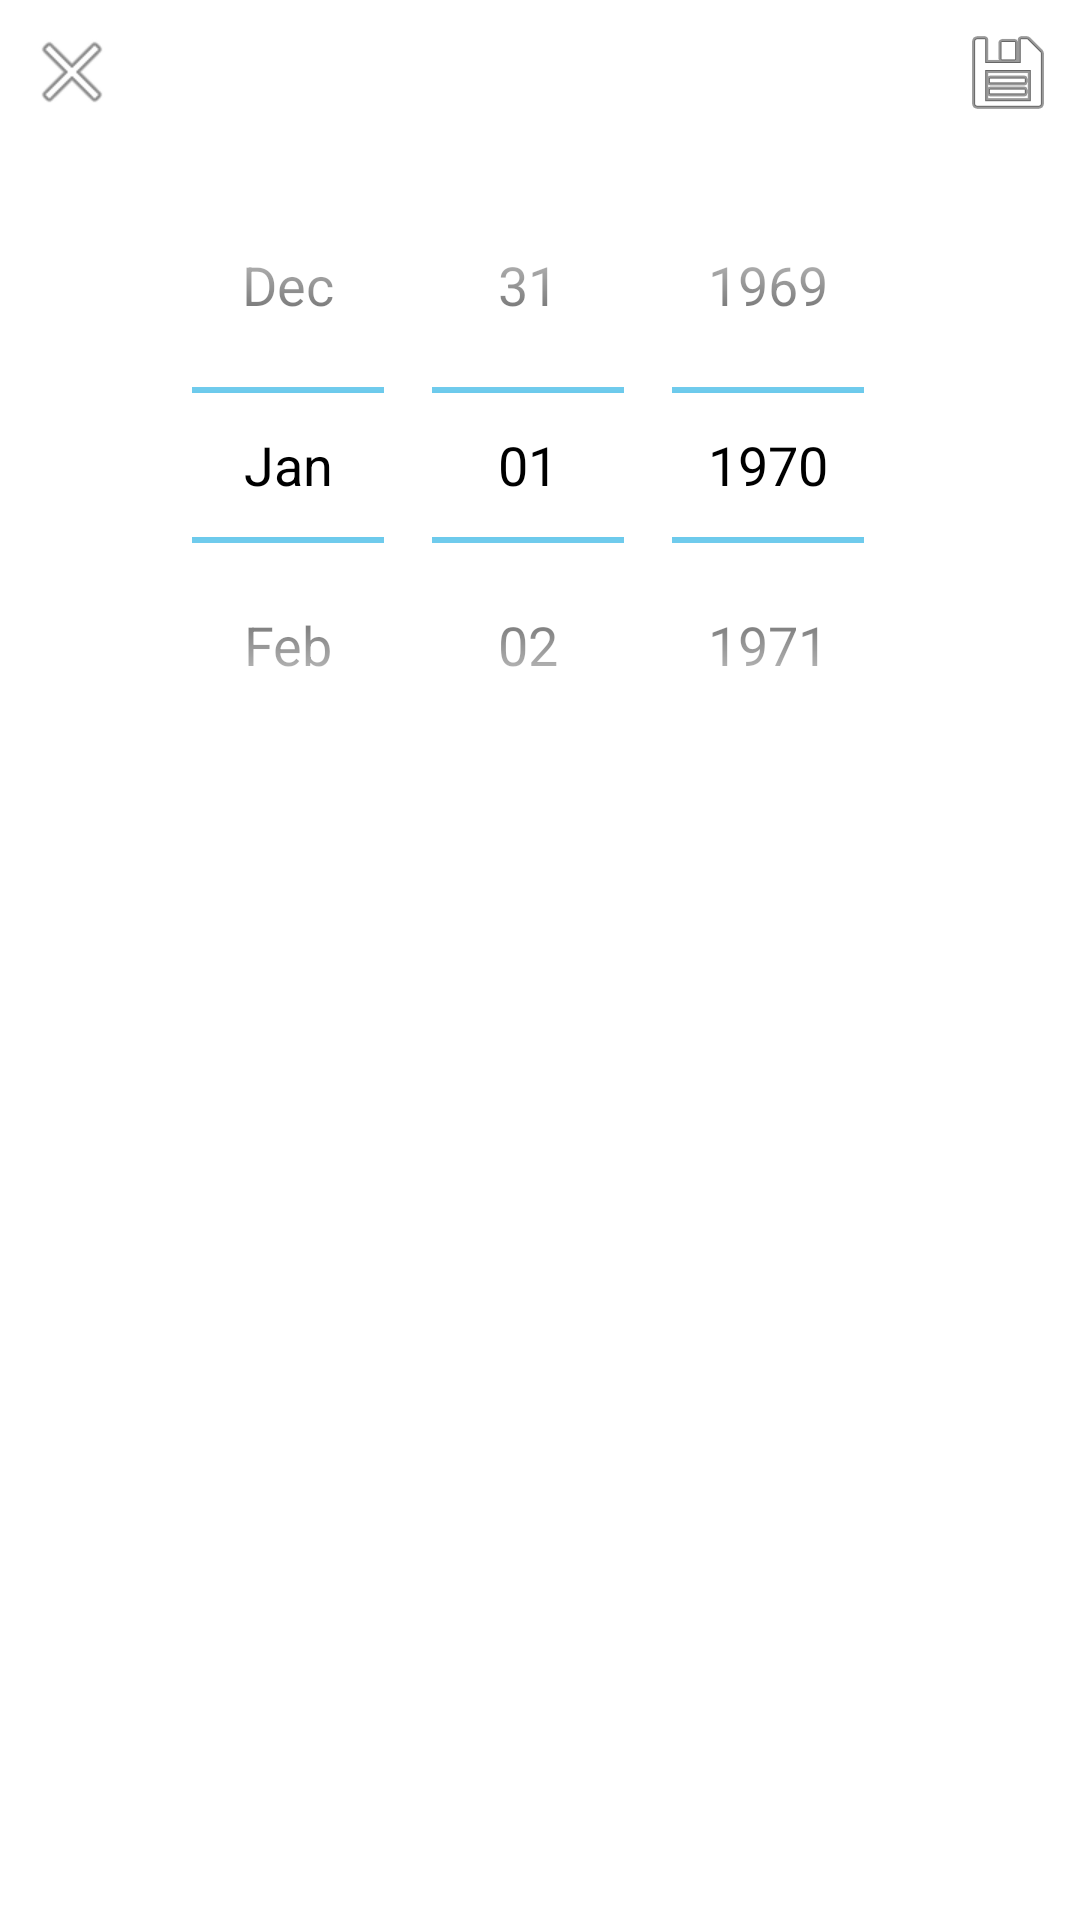

Screen size 1080x1920. Icon name, then its box in pixels as detection(x1, y1, x2, y2):
close clear cancel: detection(42, 42, 102, 102)
save: detection(972, 36, 1044, 109)
